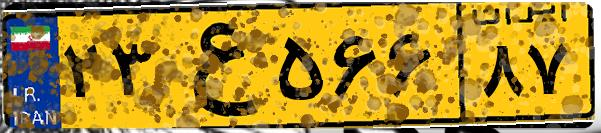2: (57, 26, 110, 100)
3: (110, 28, 158, 98)
5: (270, 28, 330, 110)
6: (385, 28, 445, 110), (330, 28, 385, 110)
7: (525, 38, 570, 115)
8: (475, 38, 525, 113)
ع: (158, 12, 270, 120)
